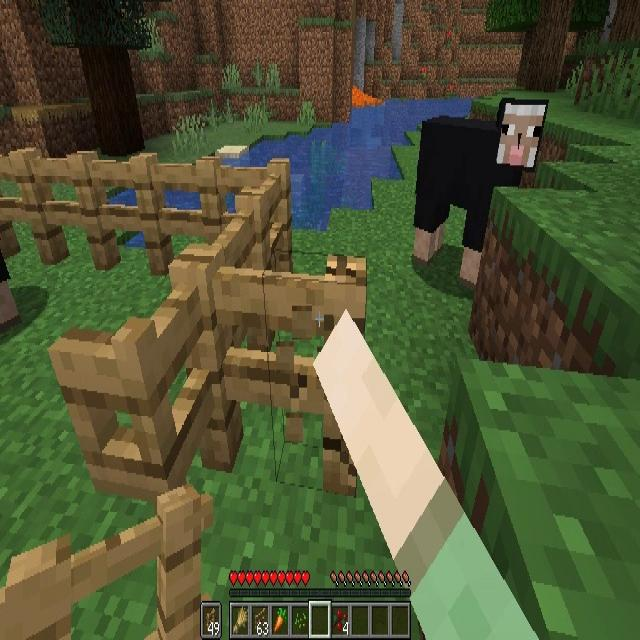sheep: (417, 101, 549, 284)
